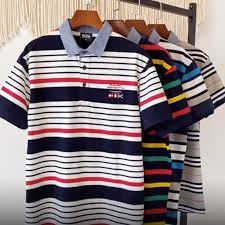striped: (5, 28, 175, 222)
